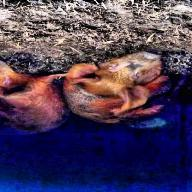boar: (62, 49, 172, 124), (0, 61, 68, 136)
